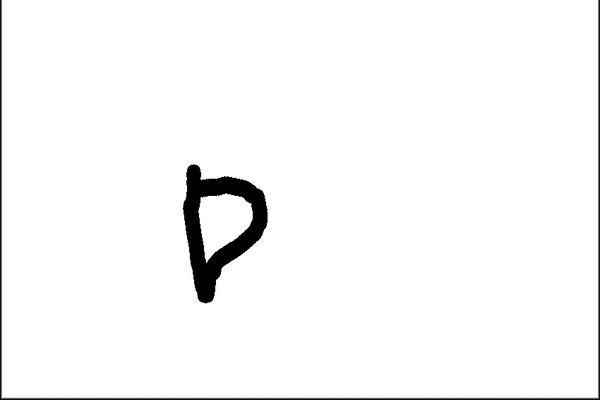D: (175, 158, 271, 307)
